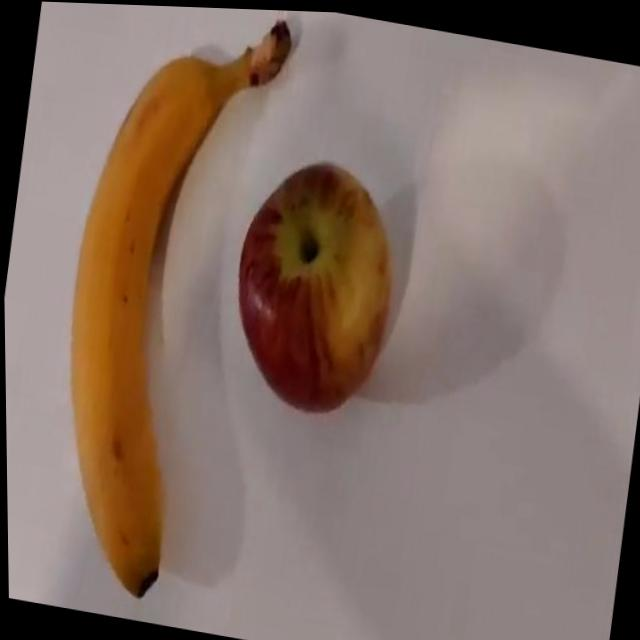Apple: (218, 148, 408, 426)
Banana: (28, 32, 232, 608)
